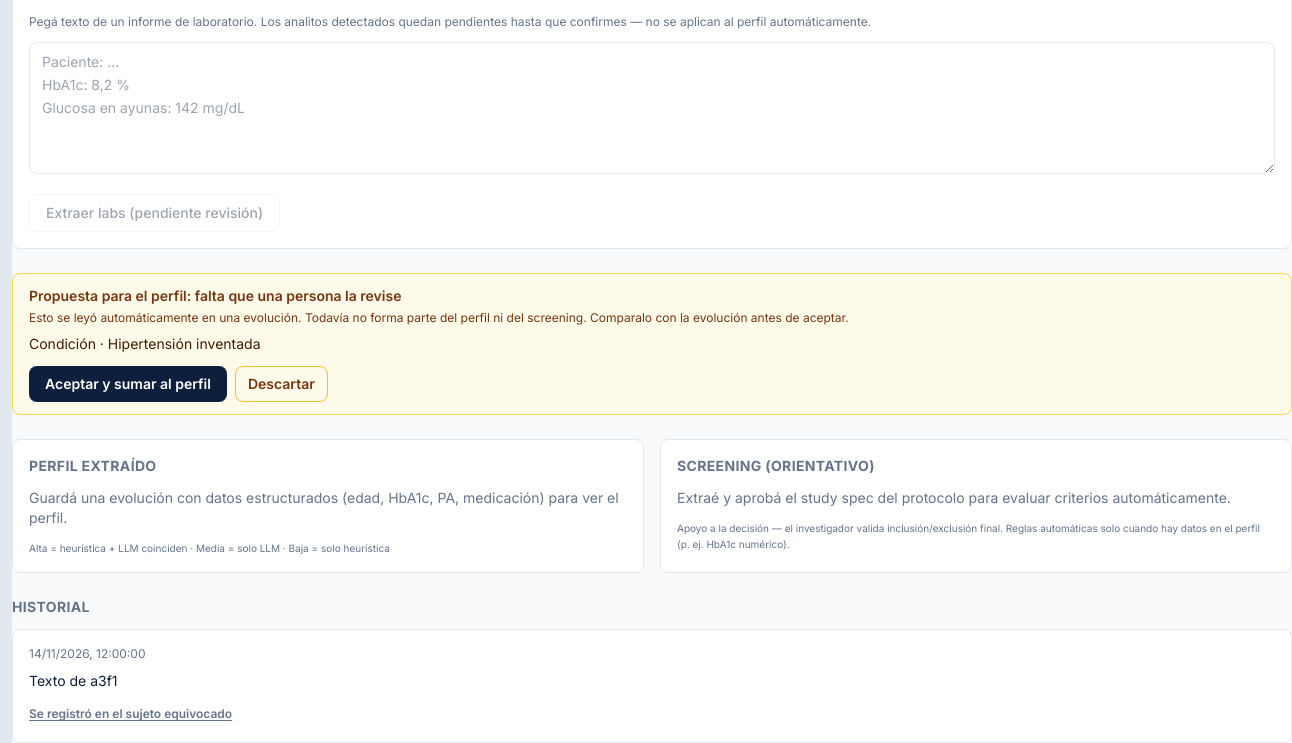
Scenario: después de una declaración confirmada › si el servidor no dijo que retiró una propuesta, la que está en pantalla se sigue viendo, con el aviso
This screenshot has width=1292, height=743.
(page scrolled)
Step 1. Click the button "Se registró en el sujeto equivocado" → (131, 714), box [29,706,232,722]
(page scrolled)
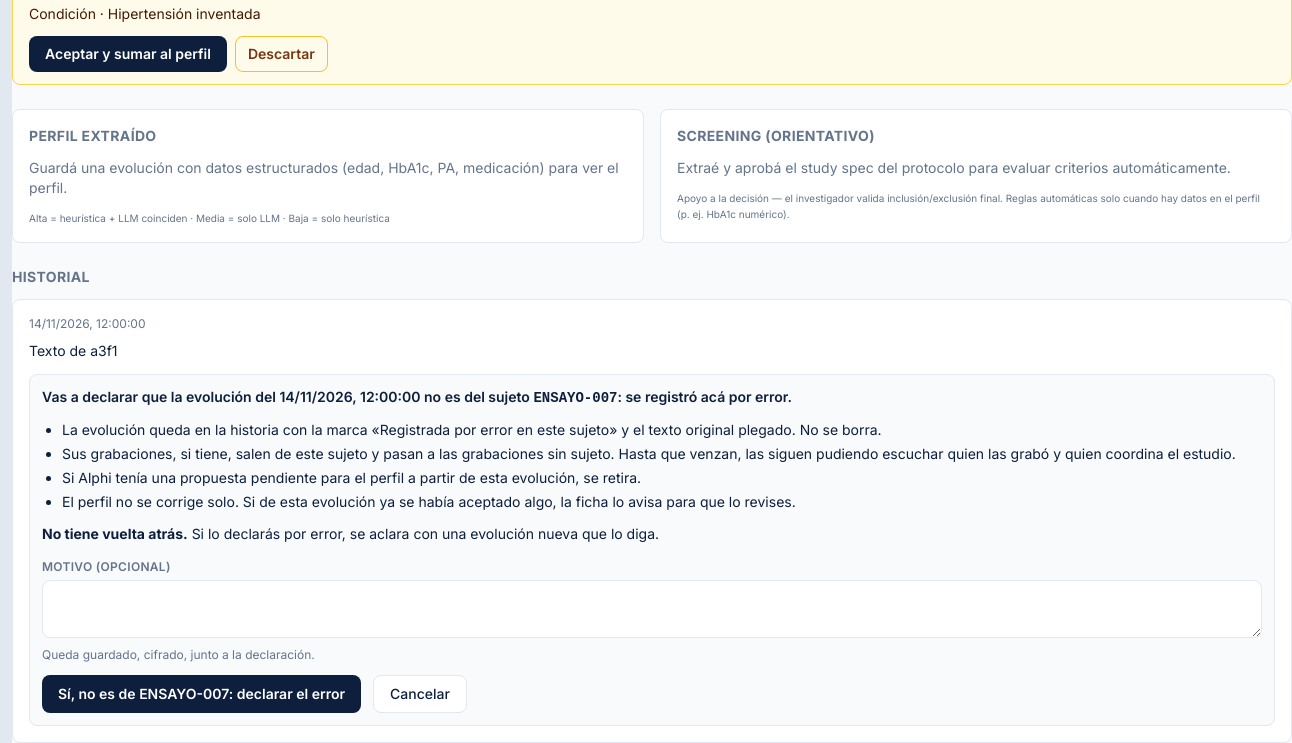
Step 2. Click the button "Sí, no es de ENSAYO-007: declarar el error" → (202, 694), box [42,675,361,713]
(page scrolled)
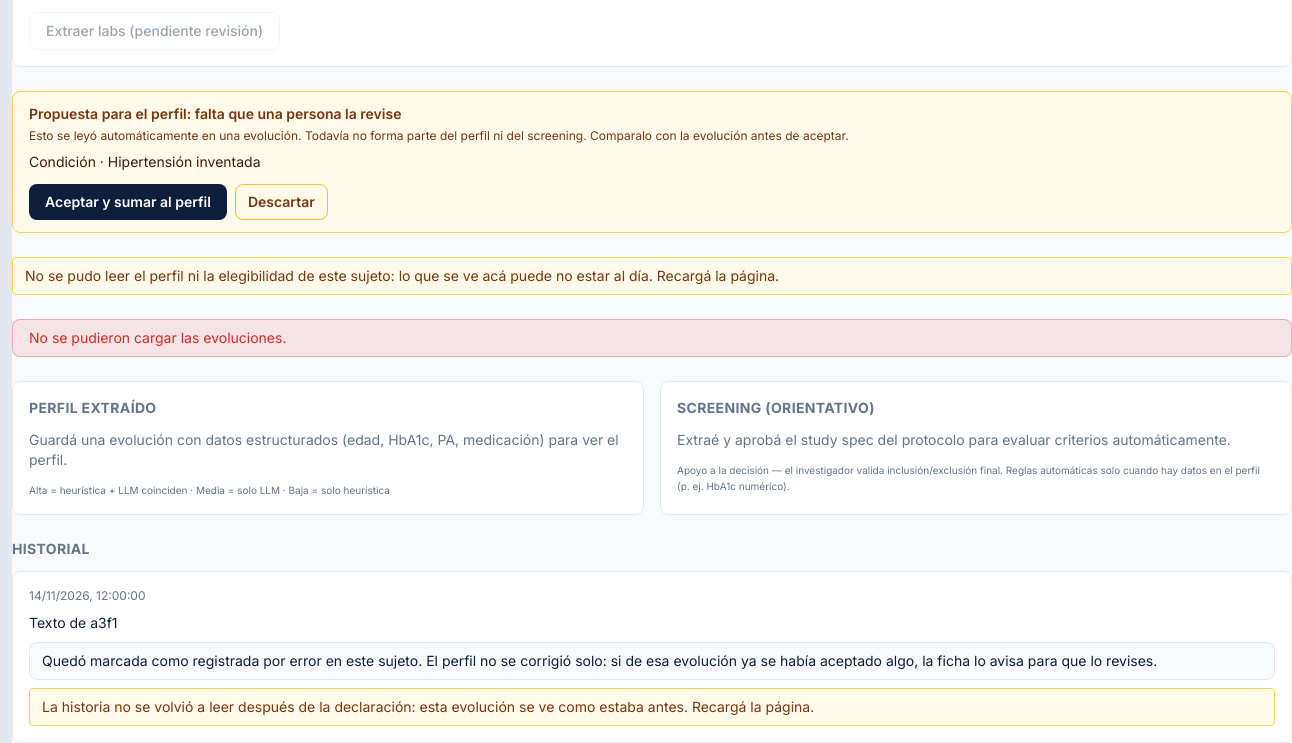
Expected: the text "Condición · Hipertensión inventada" is shown, [29,152,260,170]
Now the text "No se pudo leer el perfil ni la elegibilidad de este sujeto: lo que se ve acá puede no estar al día. Recargá la página." is shown, box [25,266,779,284]
